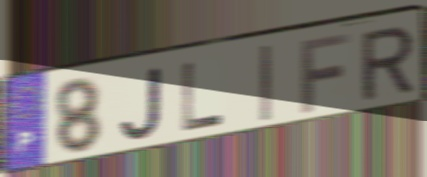8: (53, 74, 104, 158)
F: (298, 29, 354, 115)
I: (258, 41, 274, 124)
J: (117, 64, 164, 143)
L: (179, 59, 225, 134)
R: (359, 22, 417, 104)
